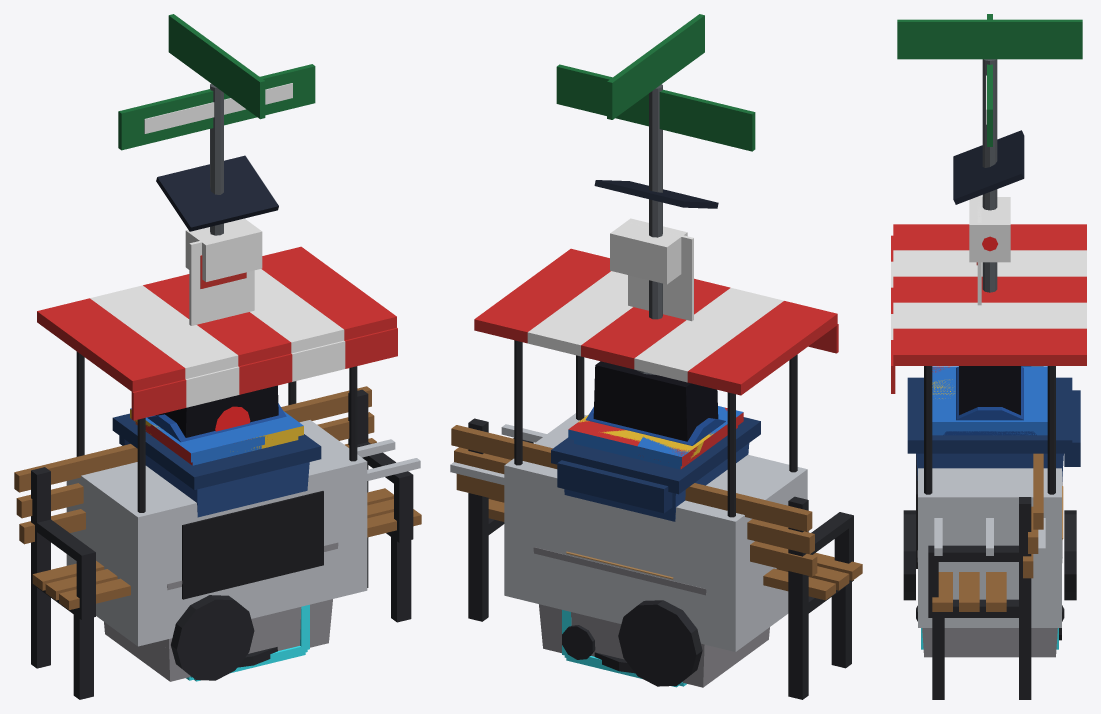
File: props.glb
3 renders of one model, left to right at view 1: azimuth 30°, elevation 25°; view 2: azimuth 150°, elevation 25°; view 3: azimuth 270°, elevation 25°, orthographic.
Parts seen in each view (by area): view 1: FoodCart, FoodCart_piece2, Bench, SignPole, FoodCart_piece5, FlockPole_piece3, TrashCan_piece0, FoodCart_piece1, FoodCart_piece4, FoodCart_piece0, SignPole_piece0, Bench_piece0 (+14 smaller); view 2: FoodCart_piece3, FoodCart, SignPole_piece0, Bench, TrashCan, Bench_piece3, AIKiosk_piece4, FoodCart_piece0, Bench_piece4, SignPole, FlockPole, Planter (+13 smaller); view 3: FoodCart, SignPole, FoodCart_piece2, Bench_piece4, TrashCan, FoodCart_piece5, FlockPole, FoodCart_piece4, Planter, Bench, FoodCart_piece0, SignPole_piece0 (+10 smaller).
Part boxes in pixels (box(x1,y1,x2,y2)): FoodCart: box(37, 247, 419, 677); FoodCart_piece2: box(177, 471, 399, 680); Bench: box(14, 386, 421, 699); SignPole: box(118, 14, 315, 325); FoodCart_piece5: box(281, 247, 420, 474); FlockPole_piece3: box(156, 155, 278, 281); TrashCan_piece0: box(152, 434, 321, 517); FoodCart_piece1: box(37, 302, 219, 554); FoodCart_piece4: box(116, 314, 323, 516); FoodCart_piece0: box(74, 253, 277, 325); SignPole_piece0: box(118, 14, 314, 325); Bench_piece0: box(14, 444, 137, 555); FoodCart_piece3: box(501, 476, 788, 686); FoodCart: box(450, 248, 838, 605); SignPole_piece0: box(556, 15, 754, 321); Bench: box(453, 418, 859, 667); TrashCan: box(551, 417, 760, 659); Bench_piece3: box(763, 513, 862, 699); AIKiosk_piece4: box(593, 365, 718, 441); FoodCart_piece0: box(514, 305, 750, 477); Bench_piece4: box(451, 418, 557, 566); SignPole: box(557, 14, 755, 318); FlockPole: box(594, 180, 686, 318); Planter: box(533, 547, 706, 687); FoodCart: box(891, 224, 1086, 600); SignPole: box(897, 14, 1082, 305); FoodCart_piece2: box(903, 490, 1061, 627); Bench_piece4: box(928, 453, 1043, 699); TrashCan: box(907, 377, 1080, 640); FoodCart_piece5: box(891, 318, 1086, 548); FlockPole: box(953, 130, 1024, 263); FoodCart_piece4: box(891, 224, 970, 490); Planter: box(917, 485, 1062, 657); Bench: box(928, 366, 1038, 699); FoodCart_piece0: box(961, 242, 1086, 475); SignPole_piece0: box(897, 14, 1082, 304).
Bounding box in the file's own units: 2 × 3.3 × 0.95.
